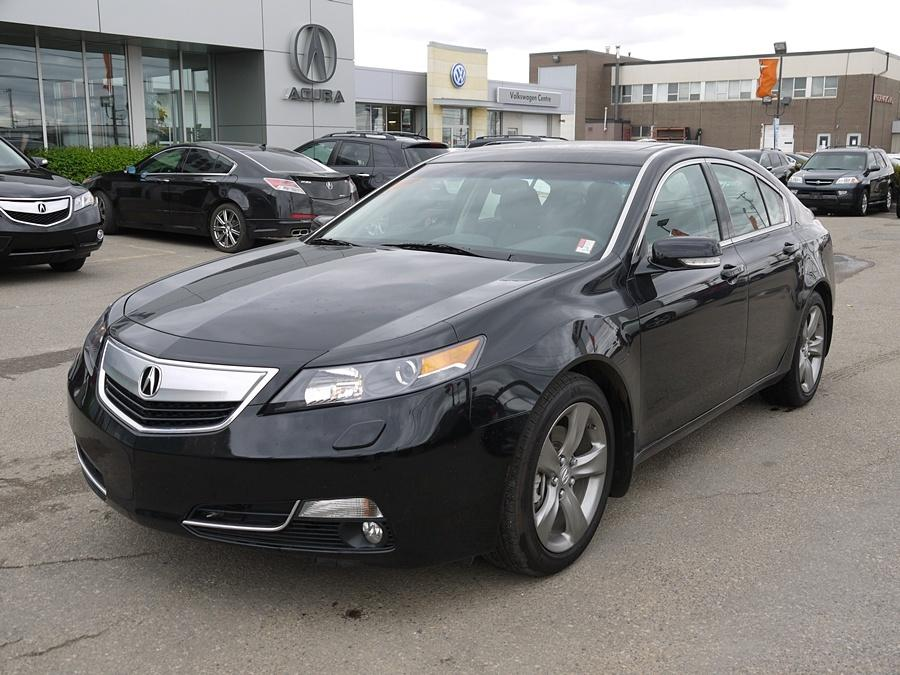car: (69, 135, 858, 601), (91, 108, 346, 225), (1, 108, 115, 284), (783, 125, 900, 209)
